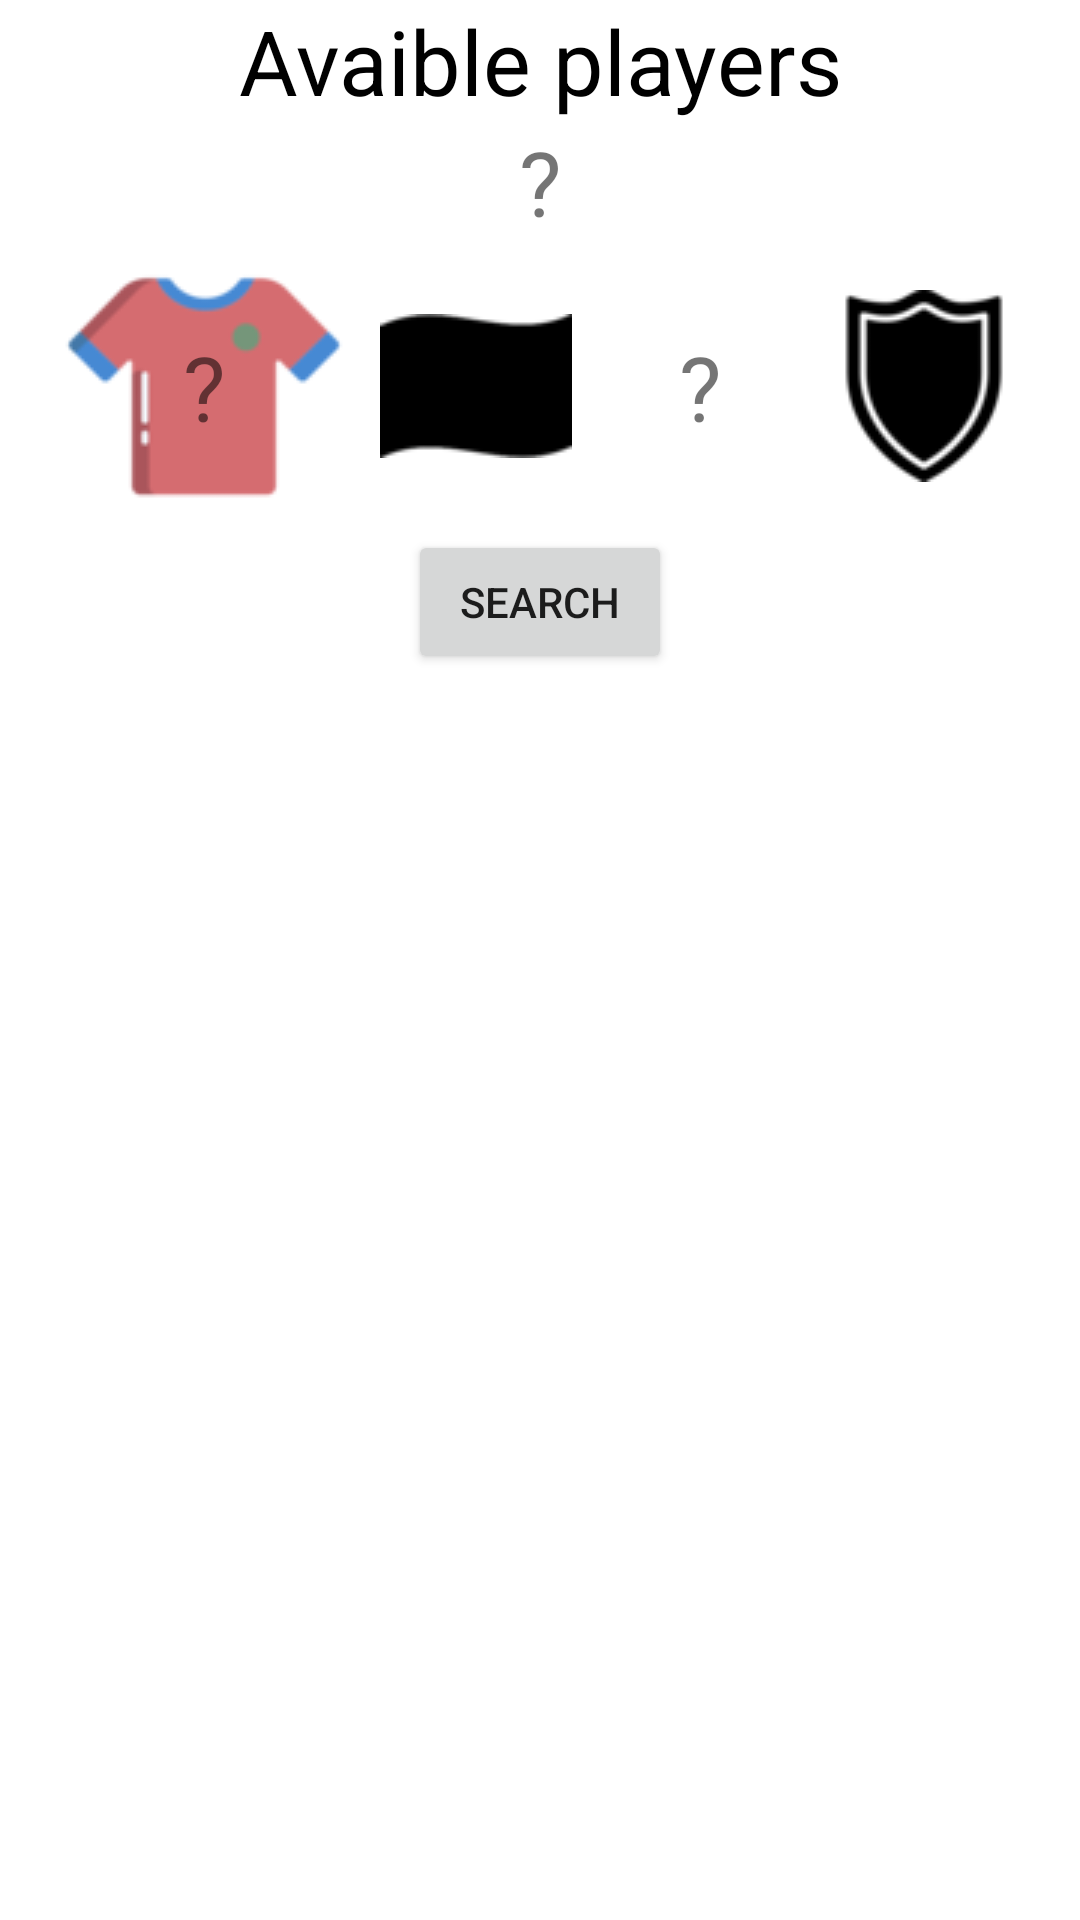

Locate icon controls on the screen. Image size 1080 × 1920, boxes as BBox(x1, y1, x2, y2).
badge: BBox(845, 290, 1003, 482)
flag: BBox(380, 314, 572, 458)
shirt: BBox(68, 277, 340, 497)
